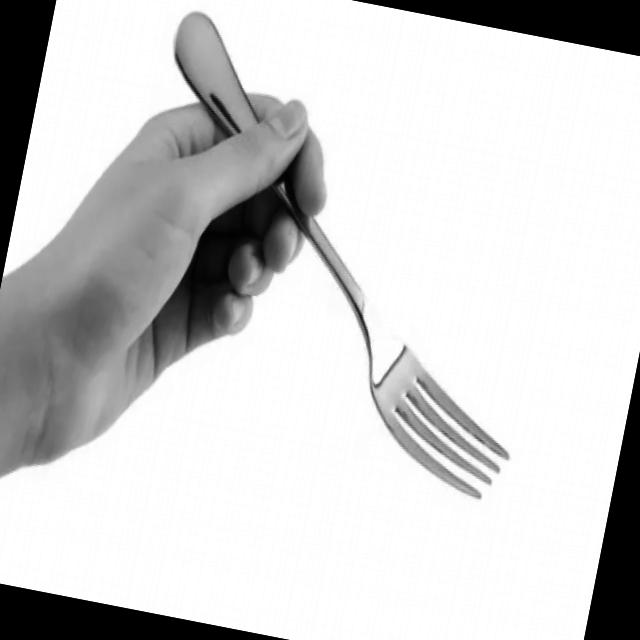fork: (99, 7, 582, 506)
